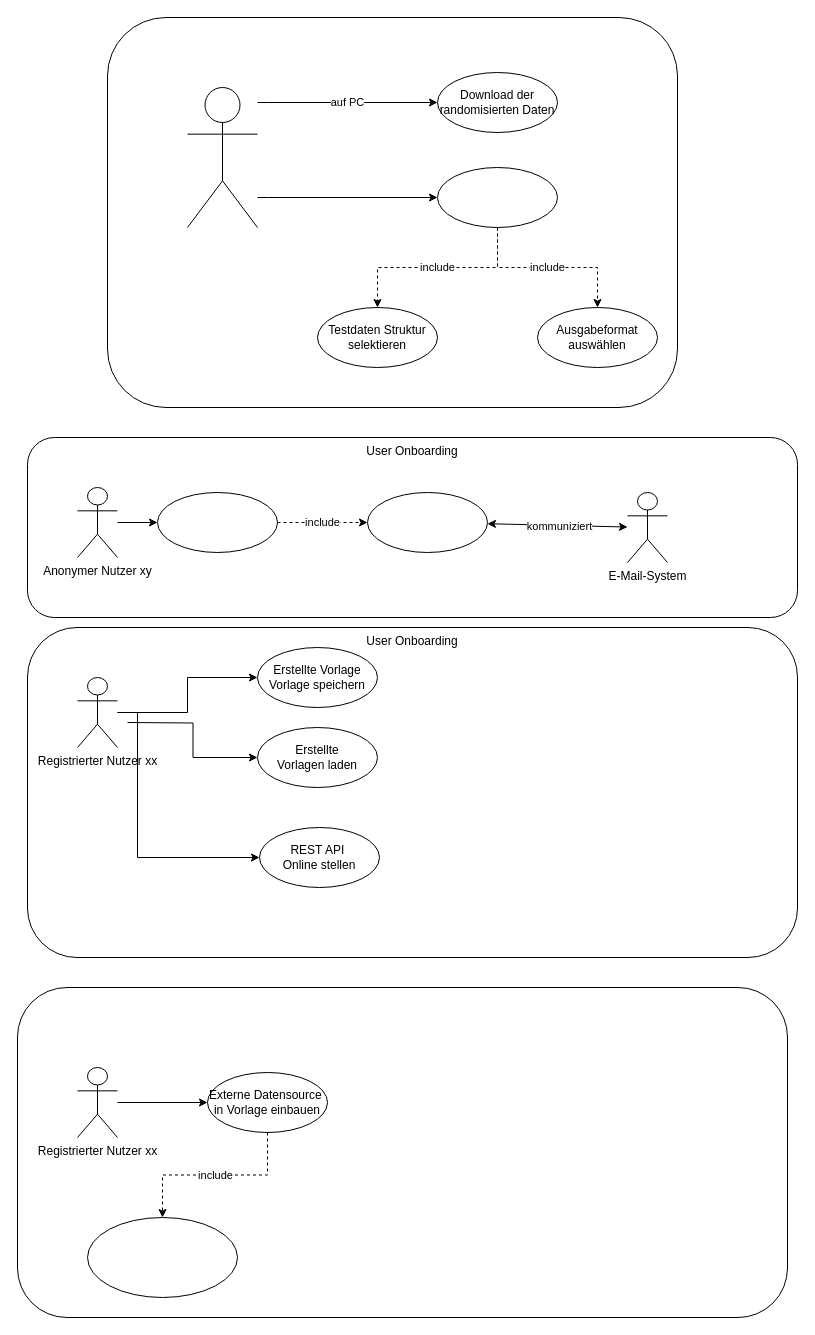
Image size: 815x1335. Some labels were removed from this diagram. The box of each missing label's shape, as (x1, y1, x2, y2) in pixels:
Accountdaten erfassen: (156, 492, 278, 552)
Aktivierungsmail versenden: (366, 492, 488, 552)
Erstellt Daten Vorlage: (436, 166, 558, 228)
Kunde bezieht strukturierte Testdaten: (106, 16, 678, 408)
Mustererkennung externe Daten: (16, 986, 788, 1318)
Mustererkennung um auf eigene Datentypen zu mappen: (86, 1216, 238, 1298)
Nutzer xy: (186, 86, 258, 228)
